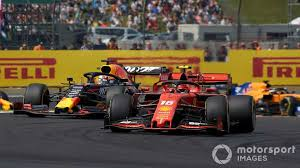FormulaOneCar: (104, 66, 263, 140), (18, 60, 169, 121)
